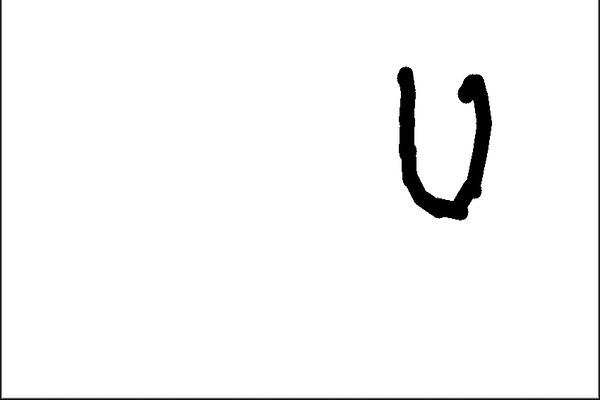U: (387, 52, 503, 224)
